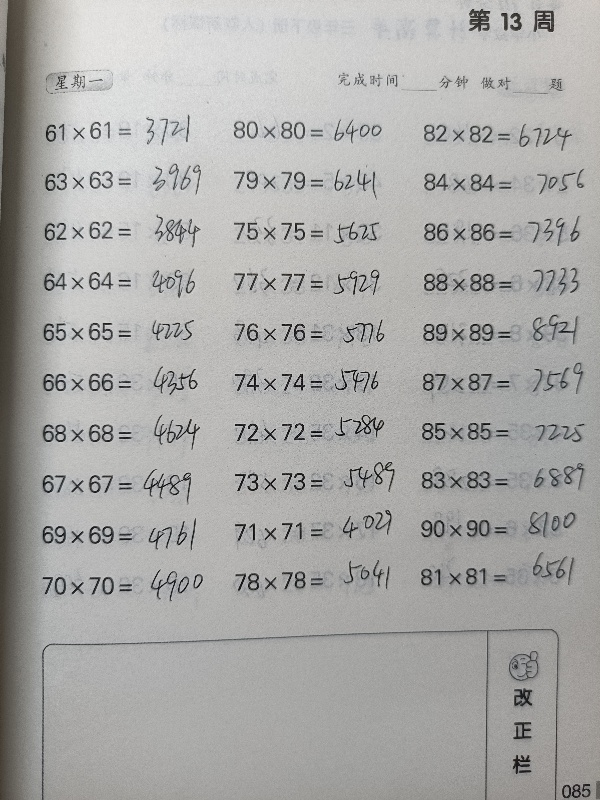equation: (34, 256, 210, 306), (34, 457, 214, 505), (40, 160, 218, 207), (225, 159, 405, 201), (37, 518, 209, 561), (414, 114, 594, 154), (37, 363, 202, 406), (226, 408, 406, 447), (226, 361, 406, 399), (32, 566, 211, 604), (39, 313, 206, 353), (414, 316, 594, 353), (225, 114, 405, 150), (226, 563, 406, 597), (412, 560, 592, 594), (226, 515, 406, 549), (413, 463, 593, 497), (415, 266, 595, 300), (415, 215, 595, 249), (226, 215, 406, 249), (35, 214, 215, 248), (35, 113, 202, 149), (412, 512, 592, 545), (226, 465, 406, 498), (33, 417, 213, 450), (413, 415, 593, 448), (414, 366, 594, 399), (227, 316, 407, 349), (225, 265, 405, 298), (415, 166, 595, 199)
